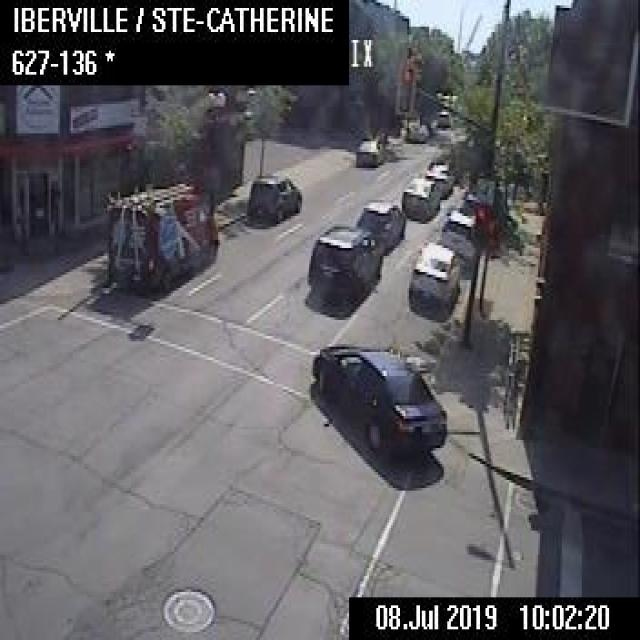vehicle: (309, 339, 446, 456), (104, 163, 218, 293), (306, 224, 380, 302), (406, 239, 455, 301), (244, 171, 302, 221), (357, 198, 403, 250), (434, 205, 473, 261), (399, 174, 438, 221), (353, 133, 384, 166), (425, 160, 451, 196), (404, 118, 430, 142), (433, 104, 449, 125)
